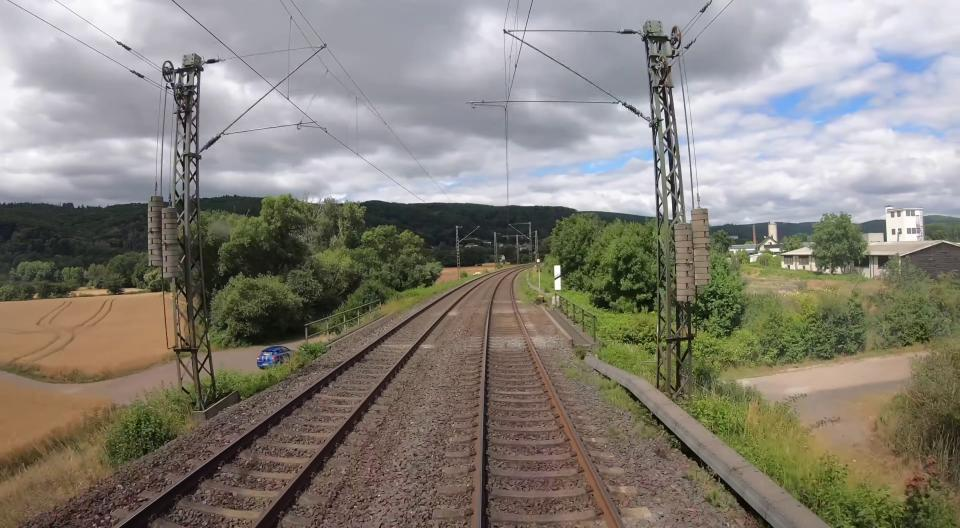Plant: (563, 355, 684, 451), (688, 462, 740, 515)
